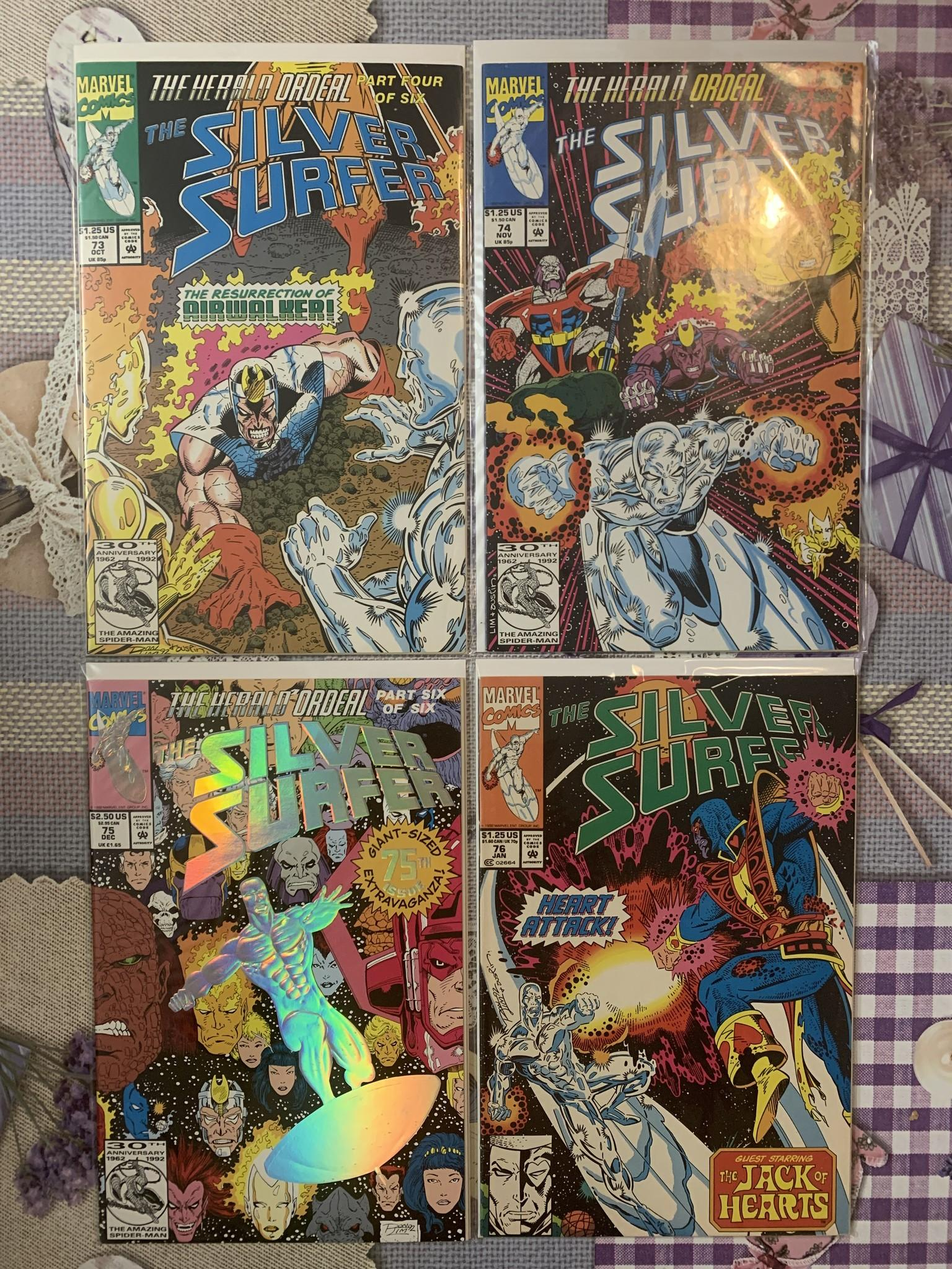comic: (467, 39, 867, 656), (75, 42, 466, 655), (87, 659, 469, 1245), (477, 659, 856, 1236)
